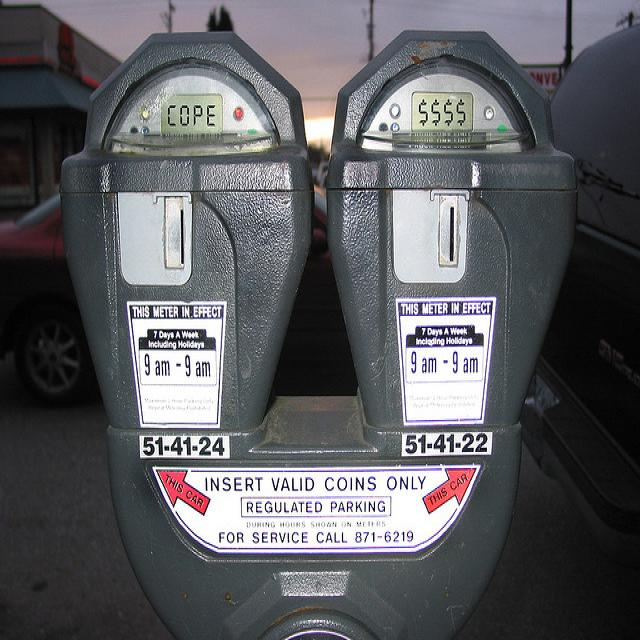Vehicle: (530, 23, 638, 535), (1, 193, 90, 406)
